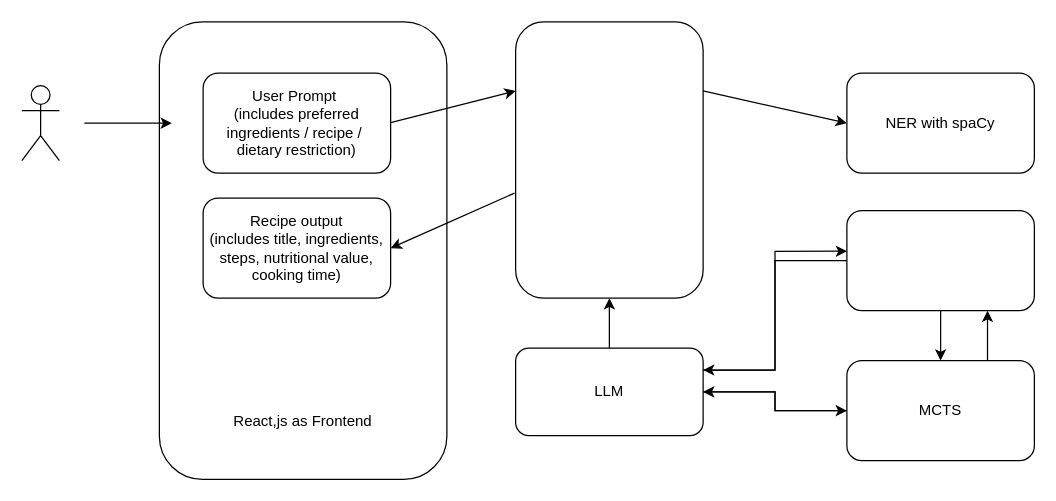
This 1056x501 diagram has some shape labels left out. The box of each missing label's shape, as (x1, y1, x2, y2) in pixels:
Flask as Backend: (514, 21, 703, 298)
Knowledge Graph: (846, 209, 1034, 311)
User: (21, 84, 59, 161)
